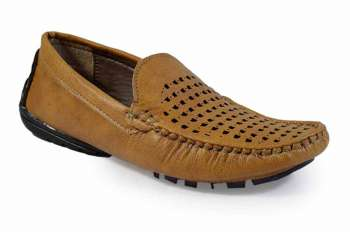Footwear: (16, 27, 333, 194)
